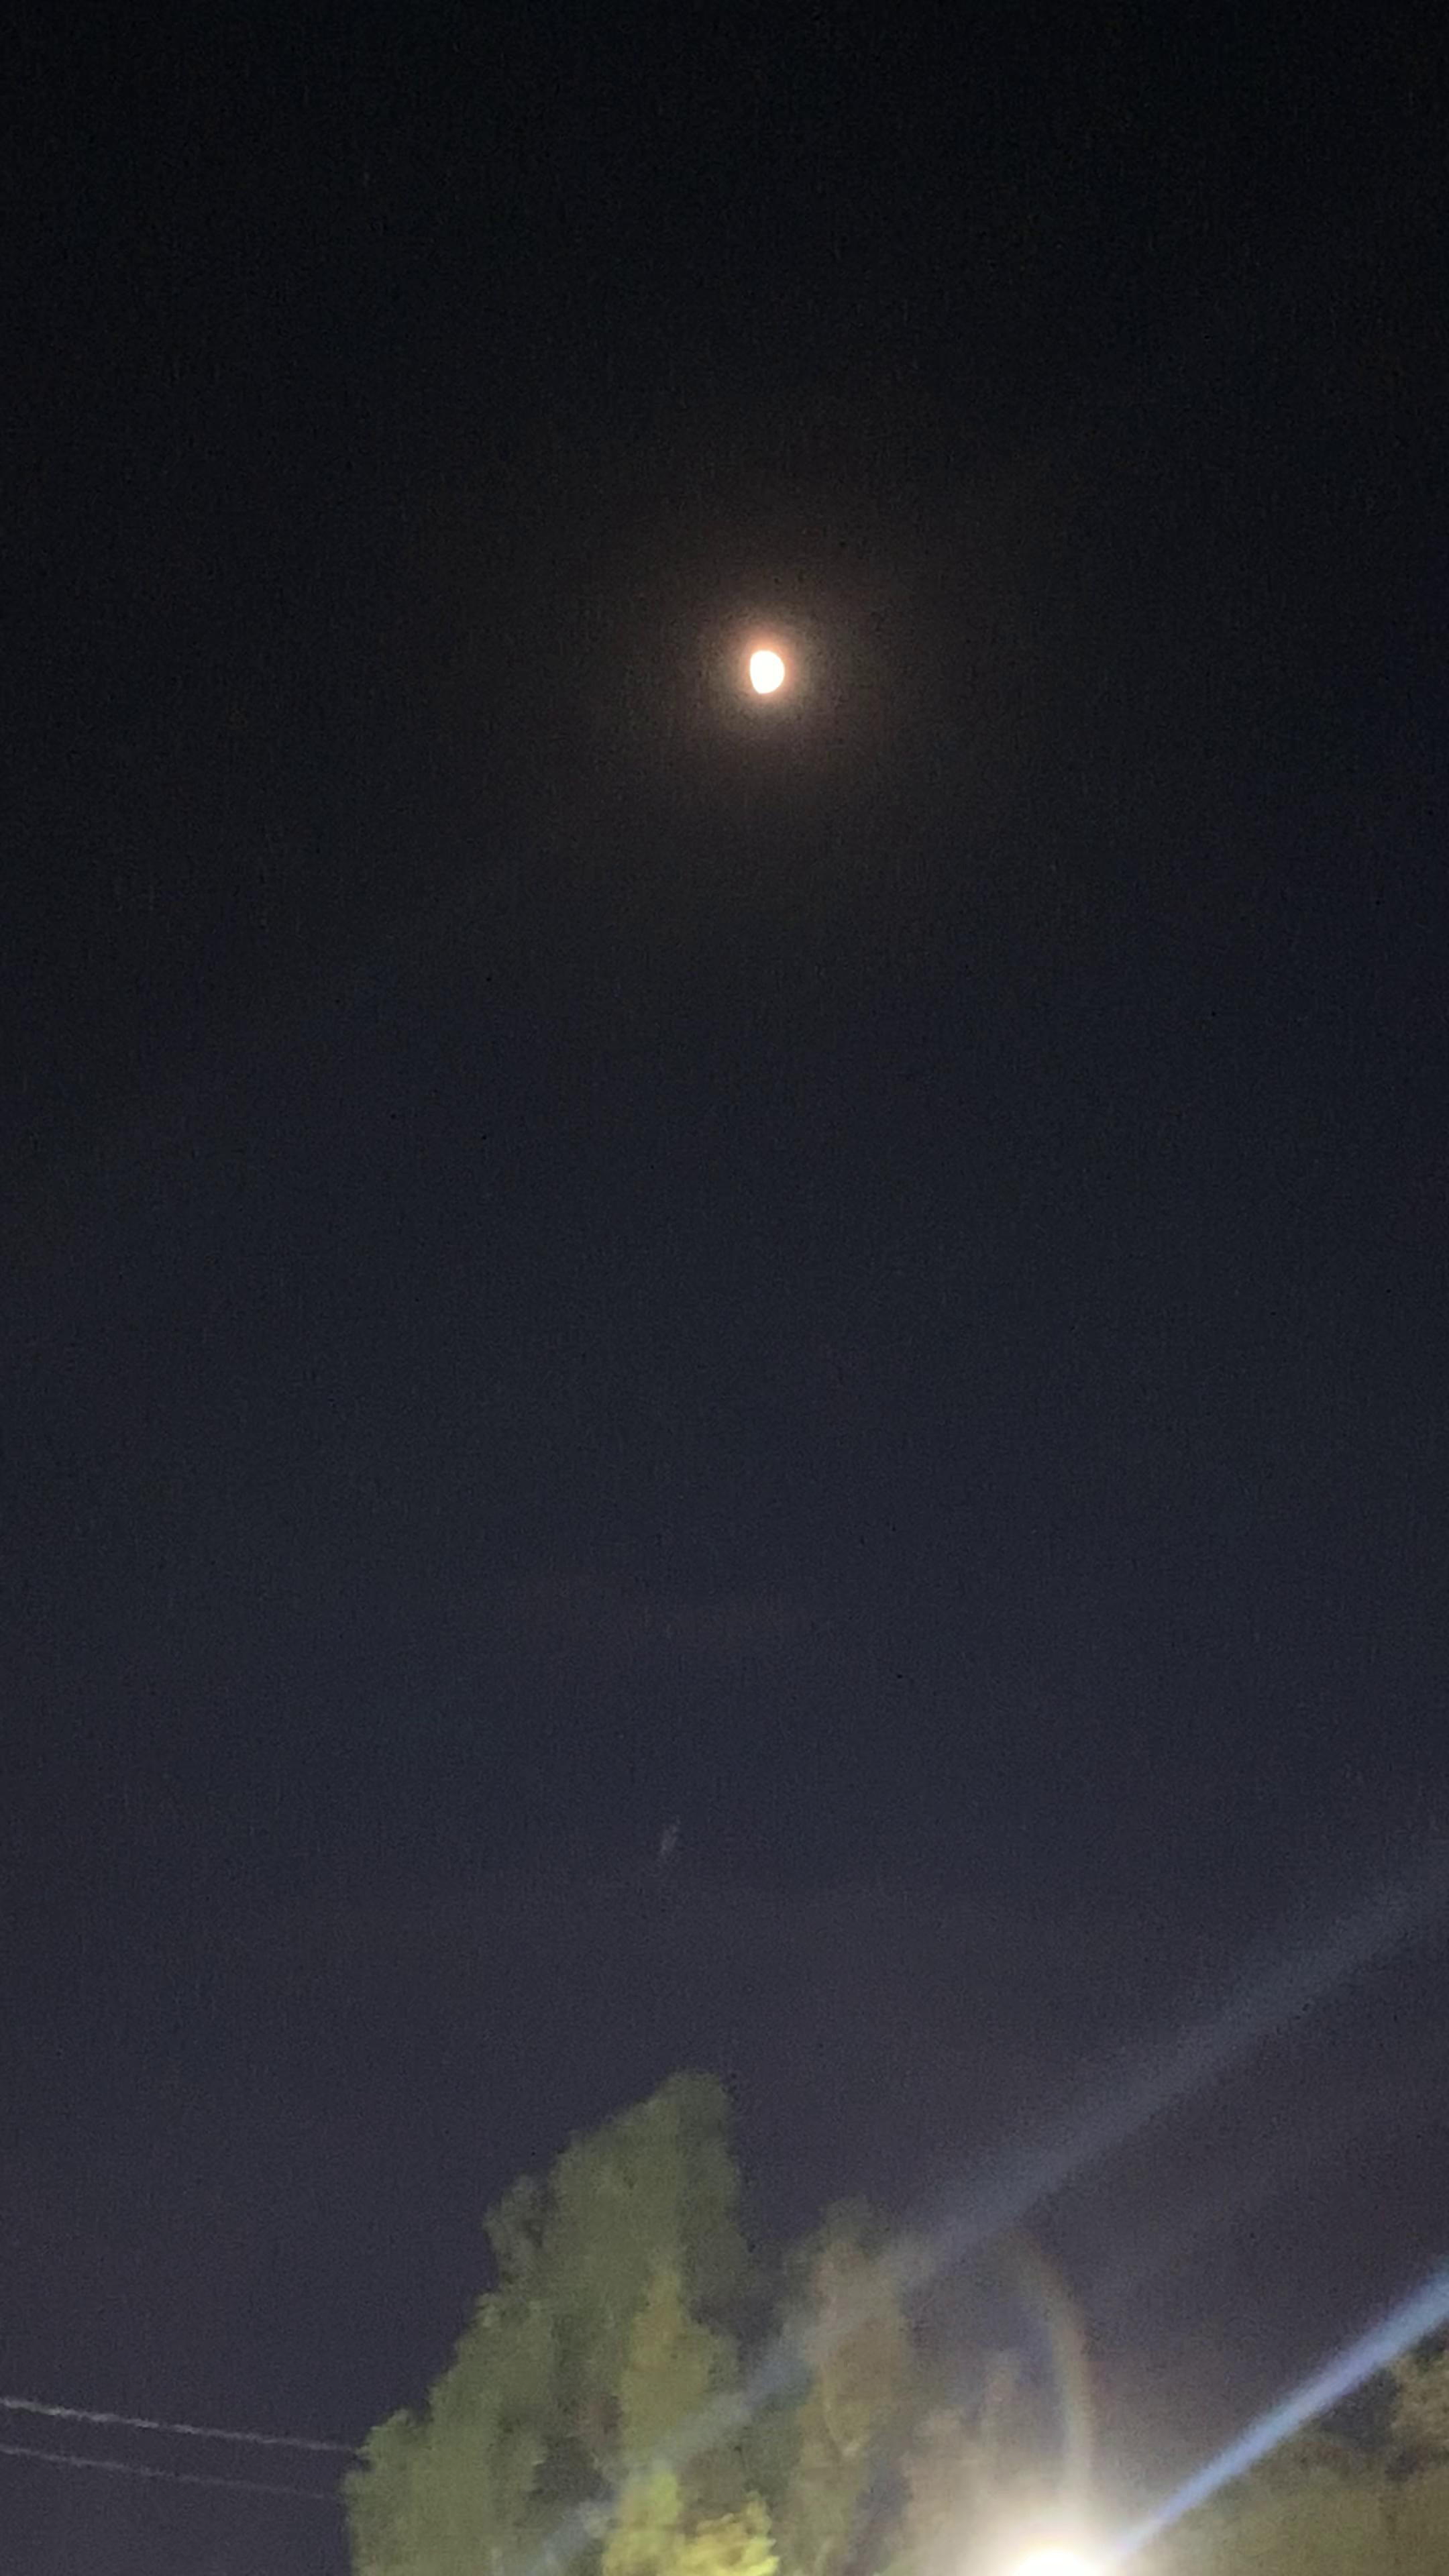moon: (711, 603, 839, 717)
